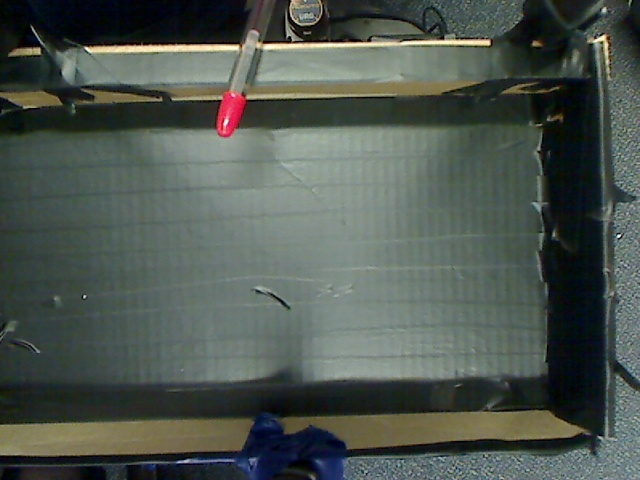pen: (209, 1, 280, 144)
